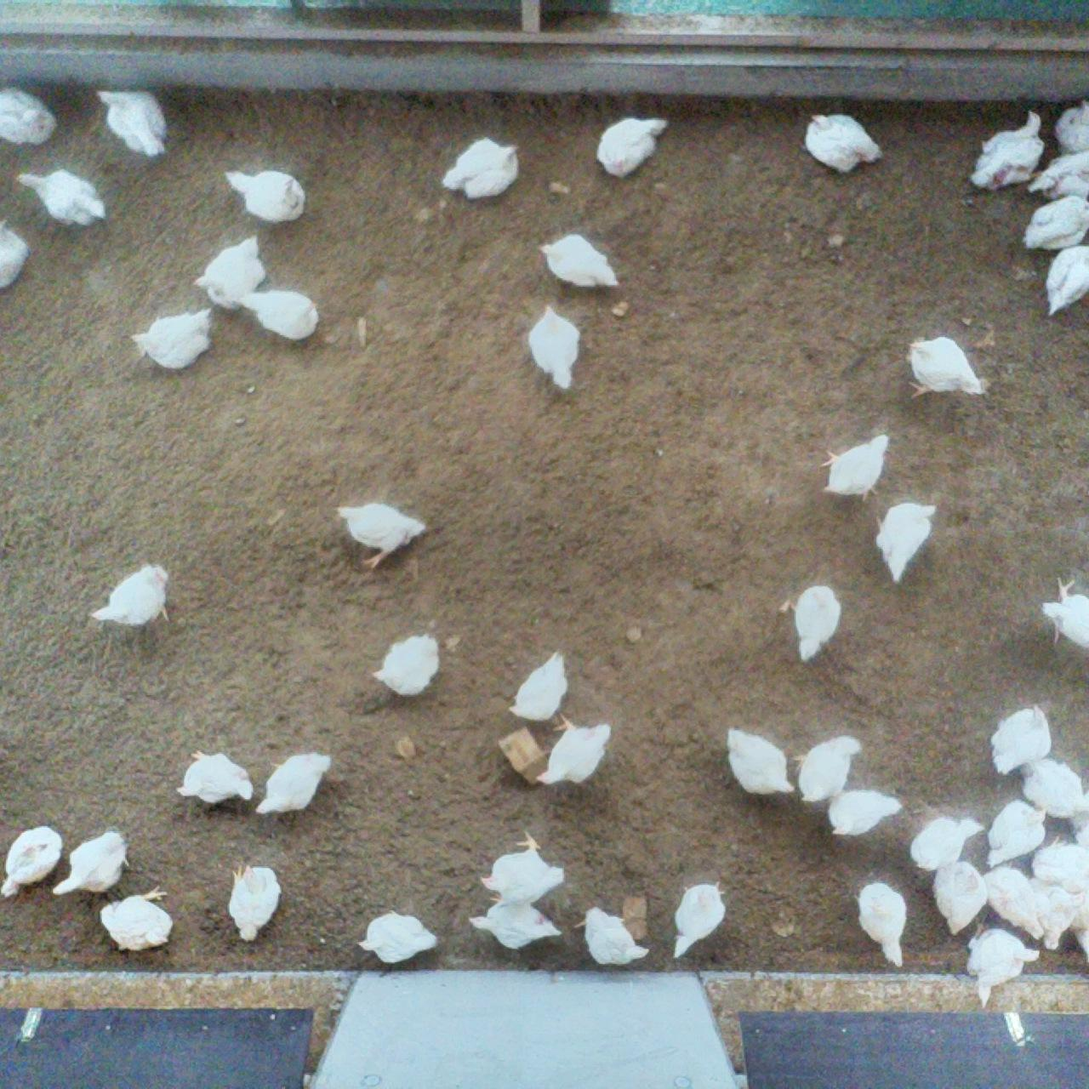chicken: (962, 911, 1042, 1010), (966, 104, 1050, 196), (12, 163, 115, 234), (478, 828, 568, 905), (335, 500, 432, 570), (533, 709, 615, 790), (190, 231, 268, 315), (901, 332, 988, 407), (870, 498, 942, 588), (773, 580, 845, 667), (129, 304, 221, 372), (439, 133, 524, 204), (852, 877, 914, 974), (533, 231, 622, 298), (803, 108, 887, 178), (816, 429, 894, 504), (93, 561, 172, 635), (984, 698, 1057, 778), (663, 877, 731, 962), (52, 828, 132, 900), (523, 302, 585, 394), (723, 725, 797, 802), (790, 733, 867, 807), (254, 749, 333, 820), (981, 858, 1046, 944), (591, 113, 676, 178), (466, 896, 564, 952), (98, 884, 175, 955), (95, 88, 172, 159), (505, 648, 574, 726), (983, 796, 1053, 872), (567, 904, 649, 968), (0, 823, 67, 901), (355, 907, 441, 967), (223, 165, 310, 224), (238, 287, 323, 346), (927, 859, 991, 937), (174, 747, 255, 808), (905, 811, 984, 873), (372, 629, 442, 697), (226, 861, 284, 943), (1018, 754, 1089, 820), (1017, 192, 1089, 255), (1028, 874, 1084, 952), (0, 82, 63, 150), (824, 786, 904, 839), (1036, 572, 1089, 652), (1034, 242, 1089, 319), (1023, 147, 1089, 202), (1027, 832, 1089, 889), (0, 213, 34, 294), (1052, 96, 1089, 156)
